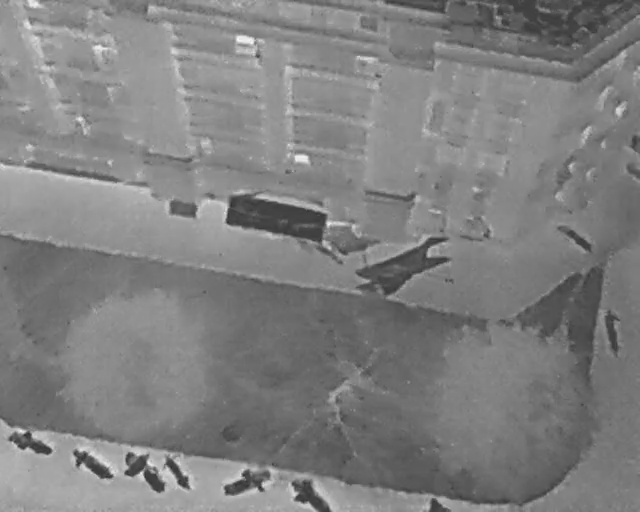Bicycle: (113, 439, 177, 502), (217, 459, 278, 504), (63, 440, 120, 487), (153, 446, 199, 498), (2, 422, 57, 460), (289, 475, 335, 510), (599, 306, 624, 362), (429, 493, 452, 510)
